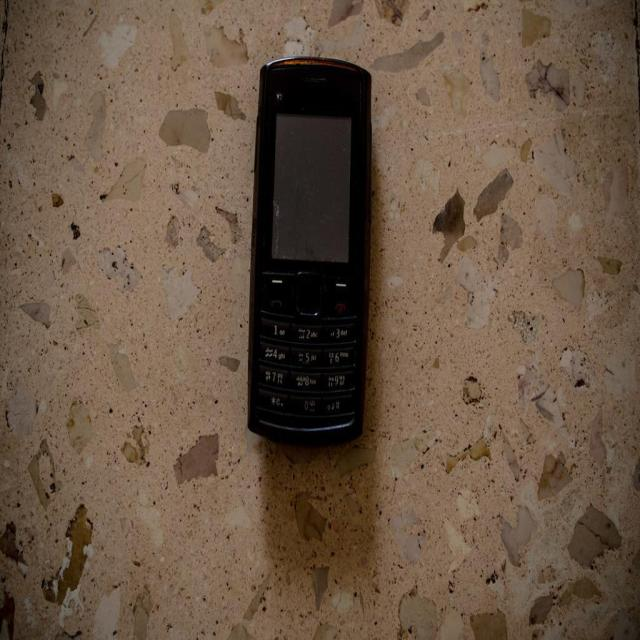Phone: (247, 62, 372, 442)
